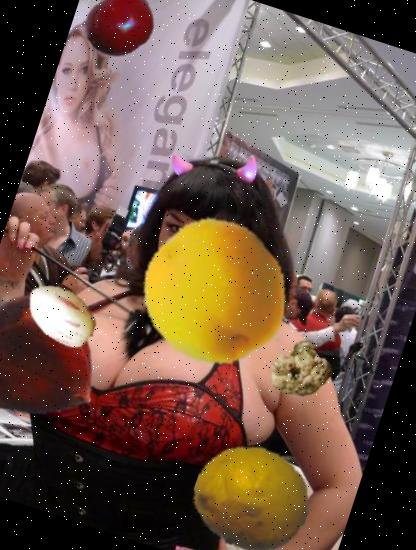Cauliflower: (260, 327, 342, 409)
Cherry: (76, 0, 164, 67)
Chestnut: (0, 276, 121, 444)
Lemon: (178, 425, 324, 550)
Peach: (122, 201, 308, 386)
Pepino: (12, 265, 110, 364)
